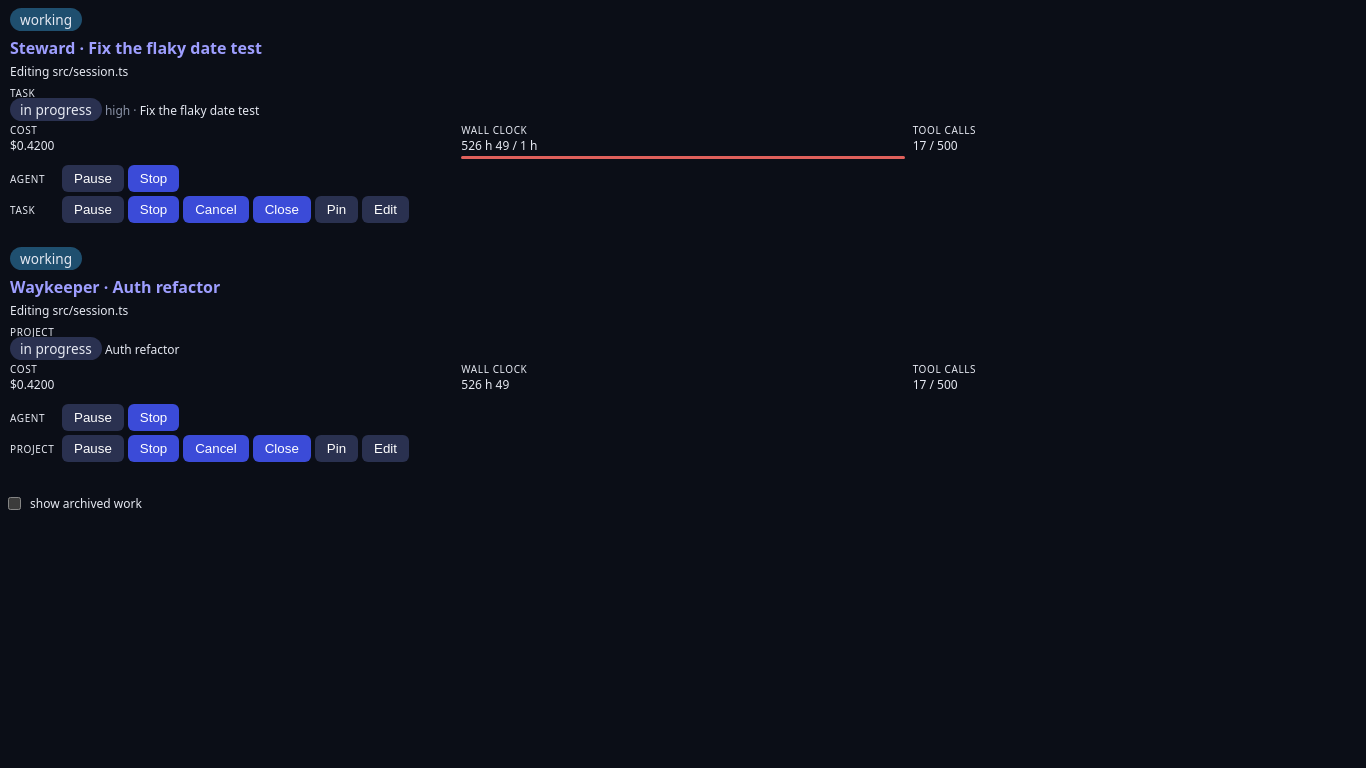
managed-agents cards: every control action of SPEC §4.3 (P25-04) › “Keep” withdraws a confirm without sending anything
Click the button "Cancel" below "526 h 49 / 1 h".
click(216, 210)  # box [183,196,249,223]
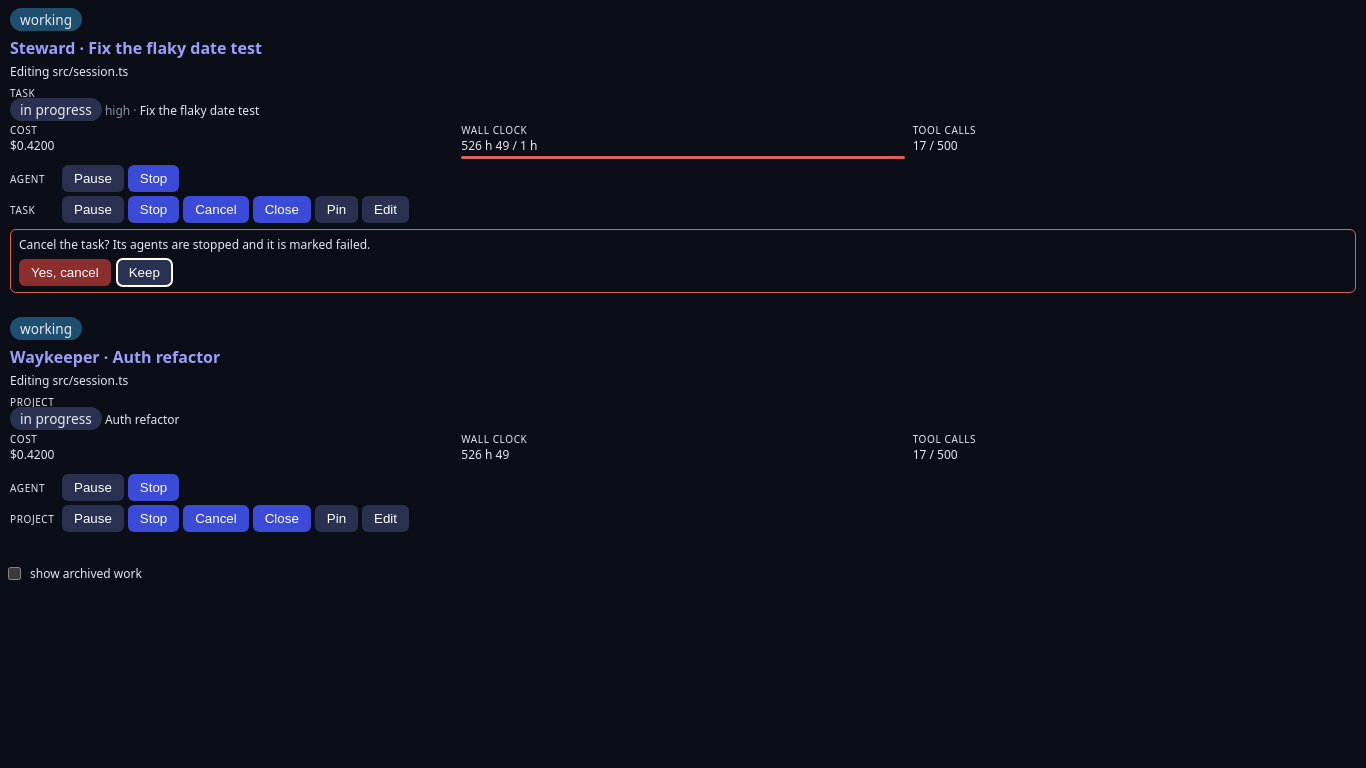
Click the button "Keep".
click(144, 272)  # box [117,259,172,286]
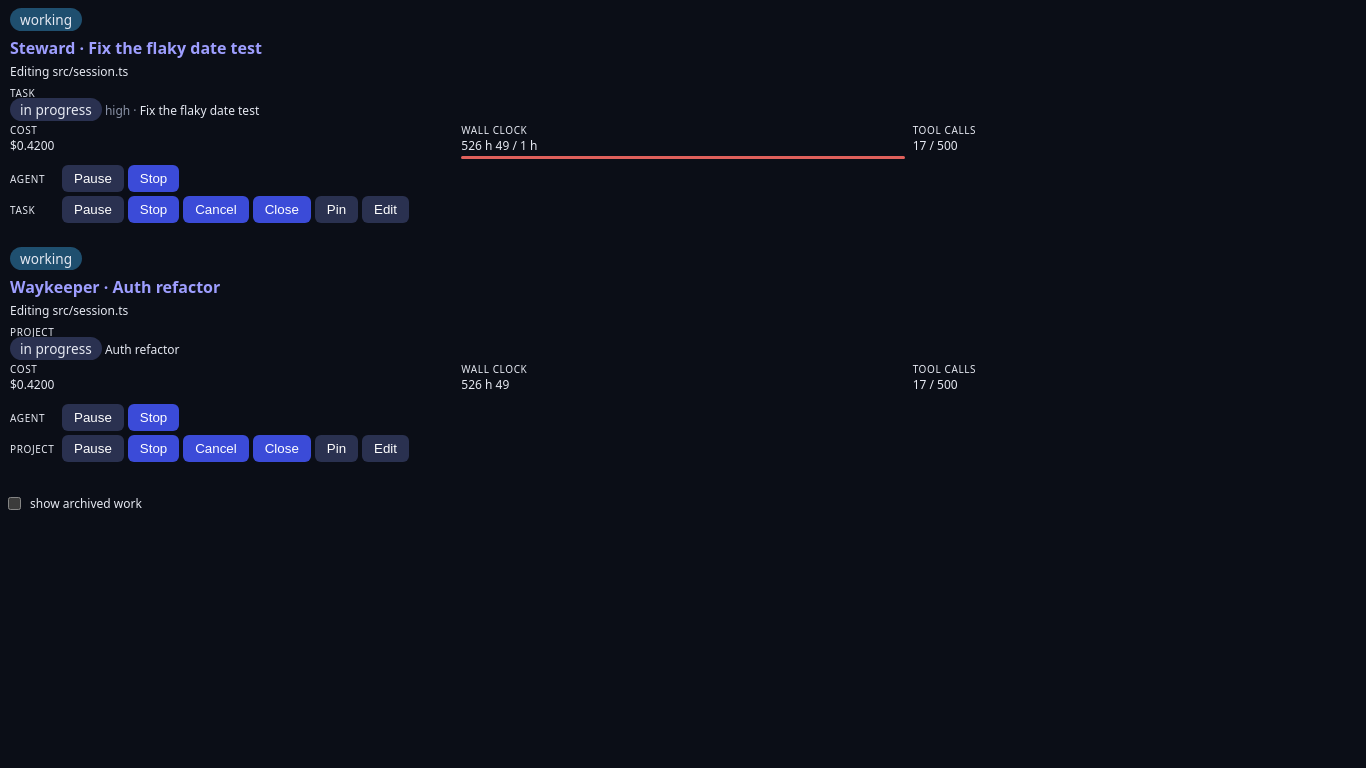
Check: the element "confirm" is gone
